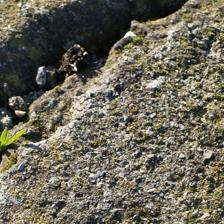Crack: (4, 5, 183, 167)
